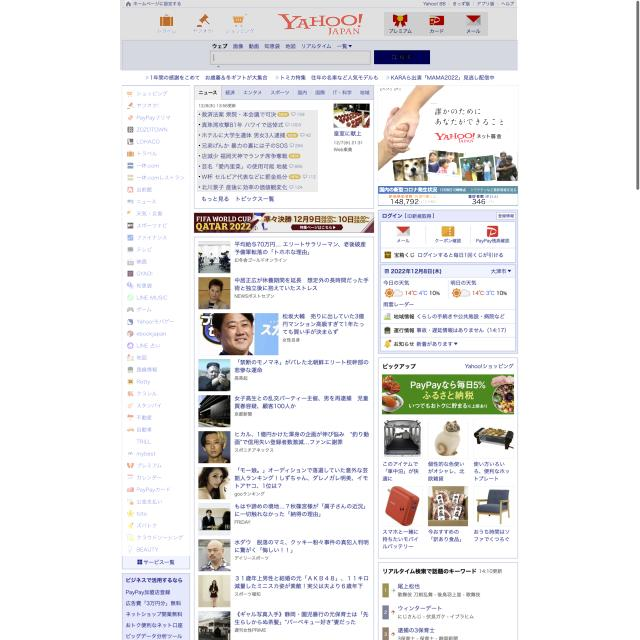CheckBox: (374, 50, 430, 64)
CheckedTextView: (210, 51, 370, 64)
ImageView: (378, 85, 518, 205)
QR code: (197, 110, 318, 192)
bag: (120, 0, 517, 70)
carousel: (391, 54, 397, 61), (125, 0, 131, 6)
data feed: (398, 53, 412, 61)
date picker: (275, 10, 367, 37)
decoration: (122, 86, 190, 556), (153, 11, 260, 35), (383, 13, 488, 36)
icon: (194, 85, 374, 100)
